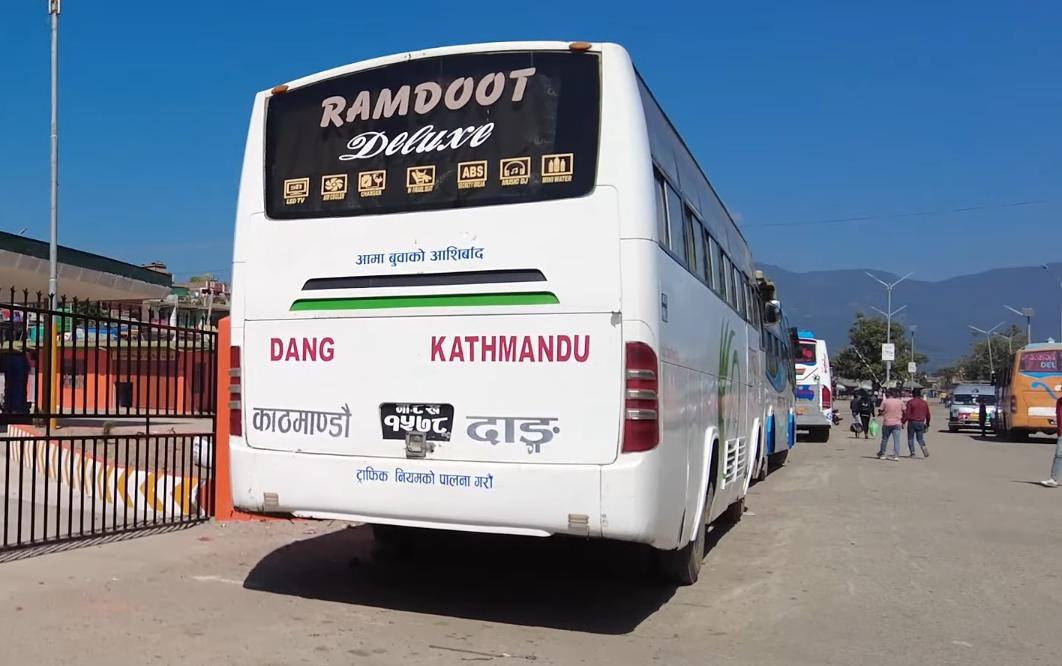bus: (211, 34, 783, 616)
